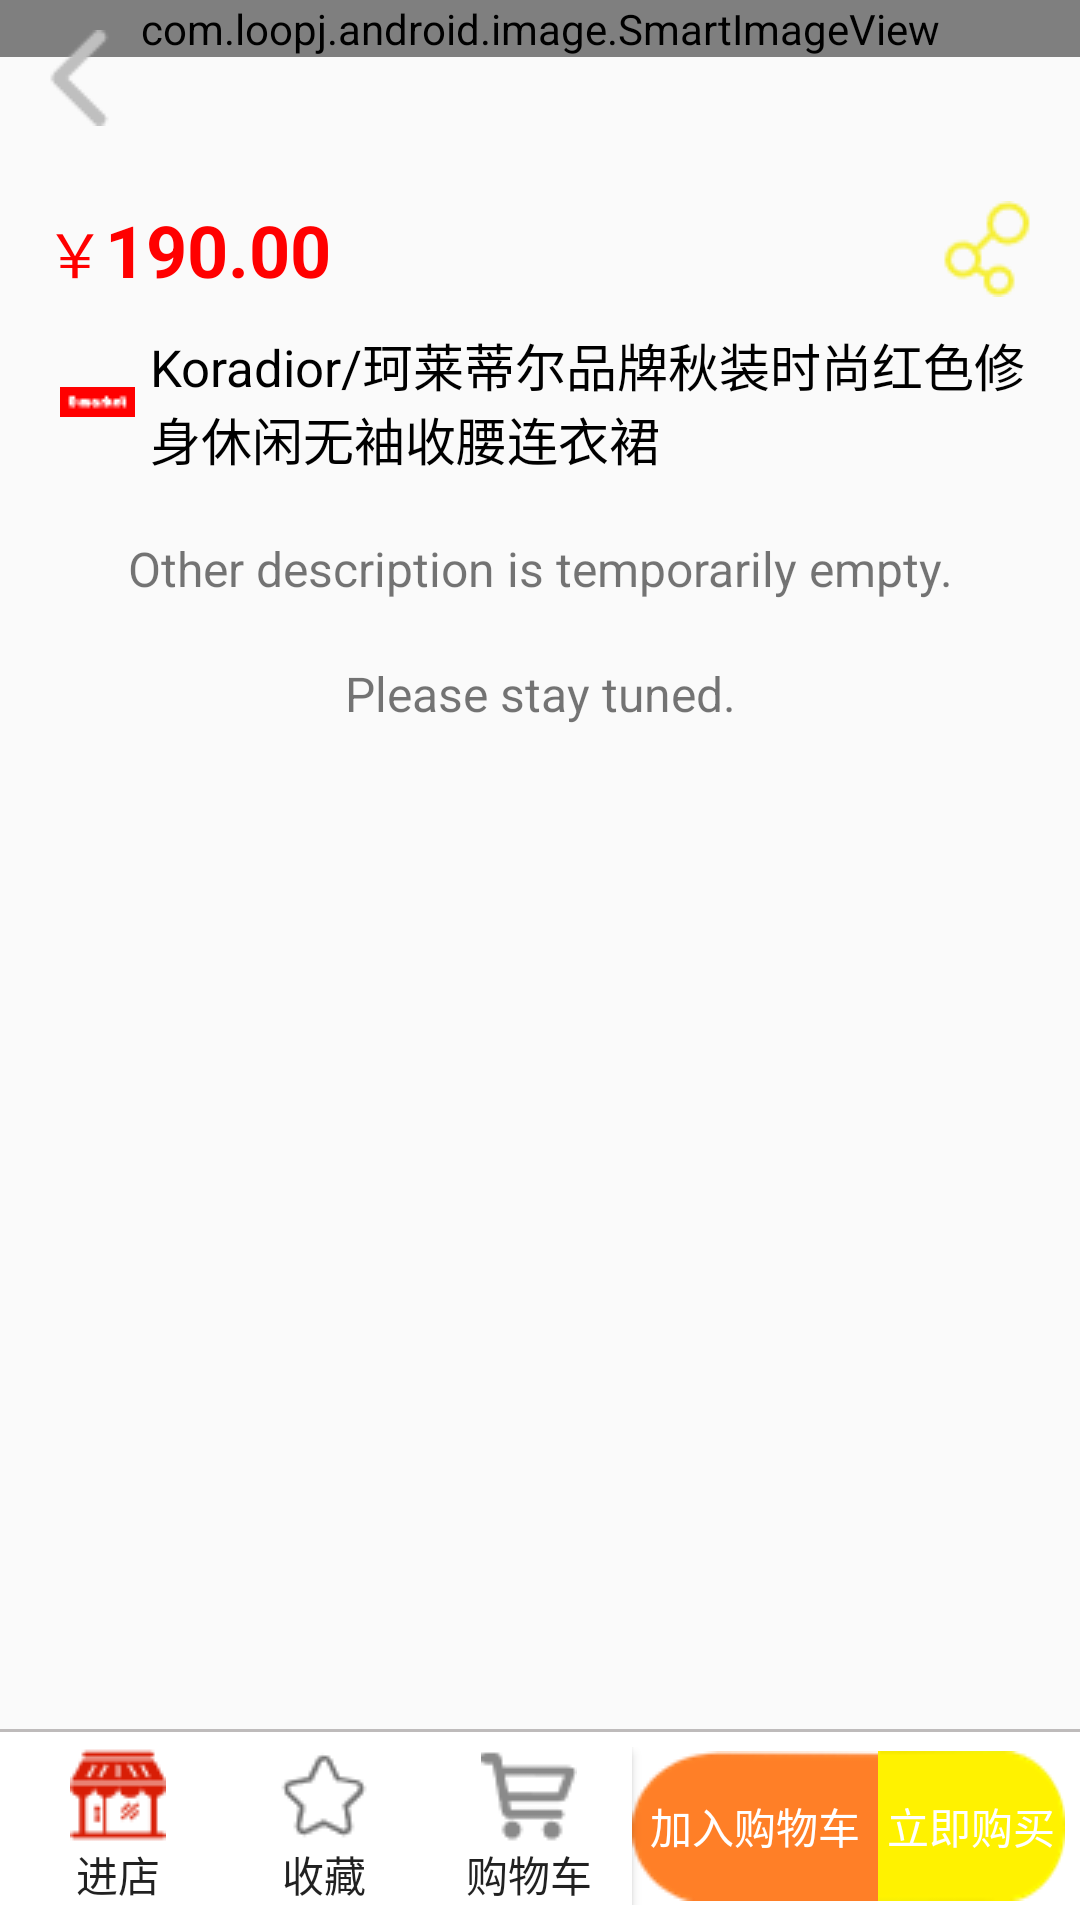

Named icons in this screenshot (1080px×1920px) and their bounding boxes, [x1, y1, x2, y2]:
left arrow: [30, 30, 126, 126]
share: [944, 201, 1030, 297]
